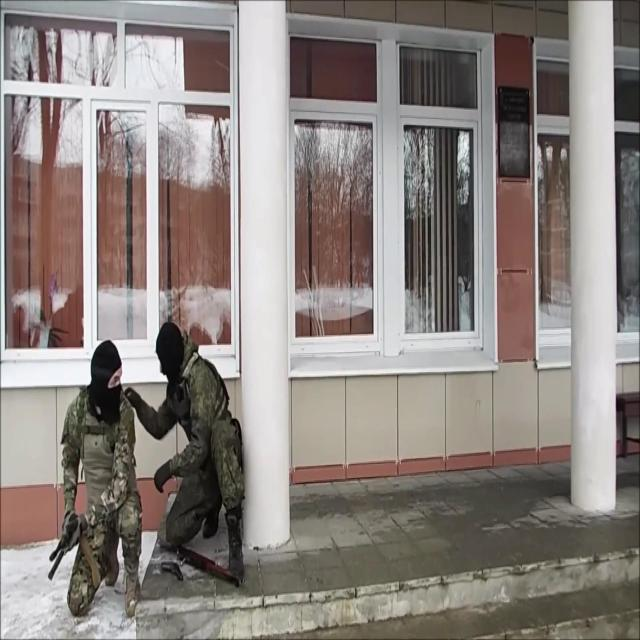gun: (48, 339, 143, 619), (148, 324, 250, 580), (159, 532, 242, 589), (47, 518, 77, 582), (160, 558, 185, 584)
